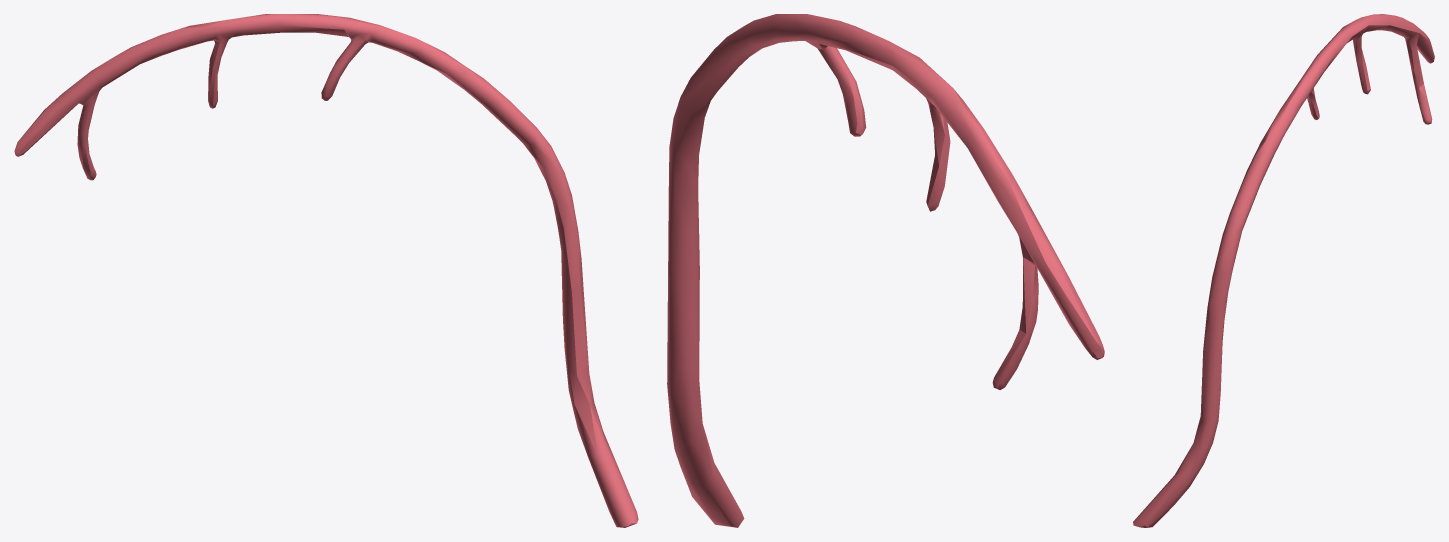
The model's file is fma69265_fj3584.glb.
3 views of the same model, side by side, from view 1: azimuth 30°, elevation 25°; view 2: azimuth 150°, elevation 25°; view 3: azimuth 270°, elevation 25° (orthographic). The views are drawn at different scales.
Visible parts, largest first — view 1: FMA69265_FJ3584; view 2: FMA69265_FJ3584; view 3: FMA69265_FJ3584.
Boxes of the visible parts, left/top/right/bottom form: FMA69265_FJ3584: left=14, top=14, right=638, bottom=527; FMA69265_FJ3584: left=667, top=14, right=1104, bottom=527; FMA69265_FJ3584: left=1133, top=14, right=1434, bottom=527.
Size of the model in its own units: 0.0403 by 0.0412 by 0.0282.
